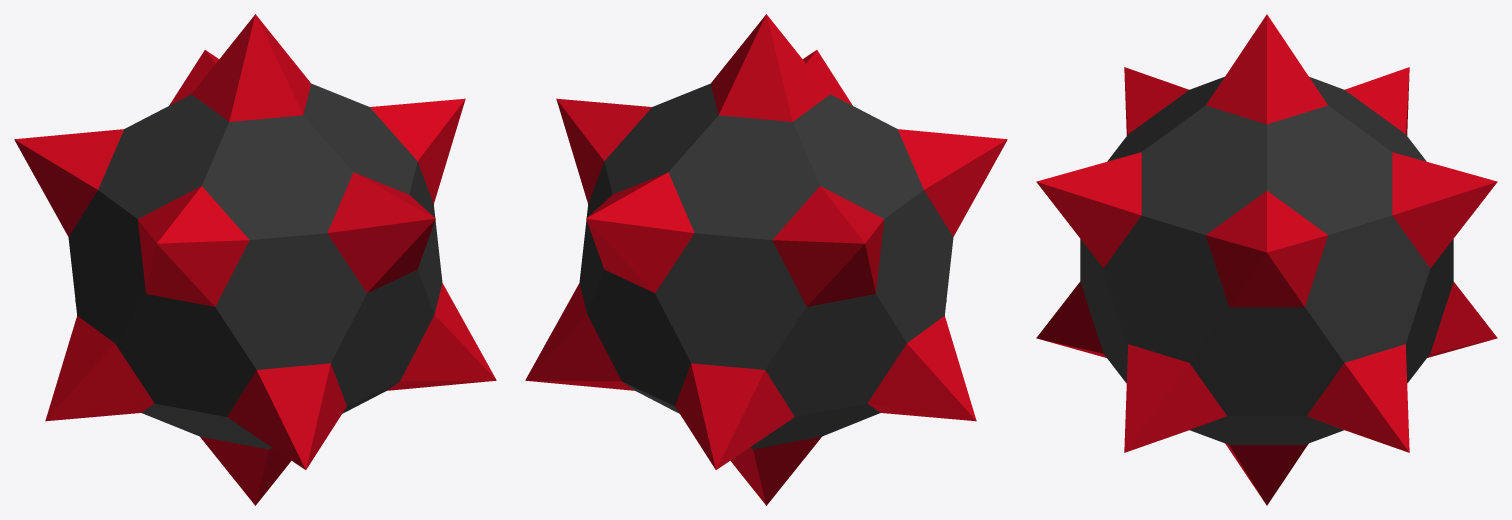
Rendered from BaseMine.fbx.
3 views of the same model, side by side, from view 1: azimuth 30°, elevation 25°; view 2: azimuth 150°, elevation 25°; view 3: azimuth 270°, elevation 25° (orthographic).
Parts seen in each view (by area): view 1: Icosphere; view 2: Icosphere; view 3: Icosphere.
Boxes of the visible parts, <box> form: Icosphere: <box>14,14,496,505</box>; Icosphere: <box>525,14,1007,505</box>; Icosphere: <box>1036,14,1497,505</box>.
Size of the model in its own units: 1.5 by 1.68 by 1.43.
